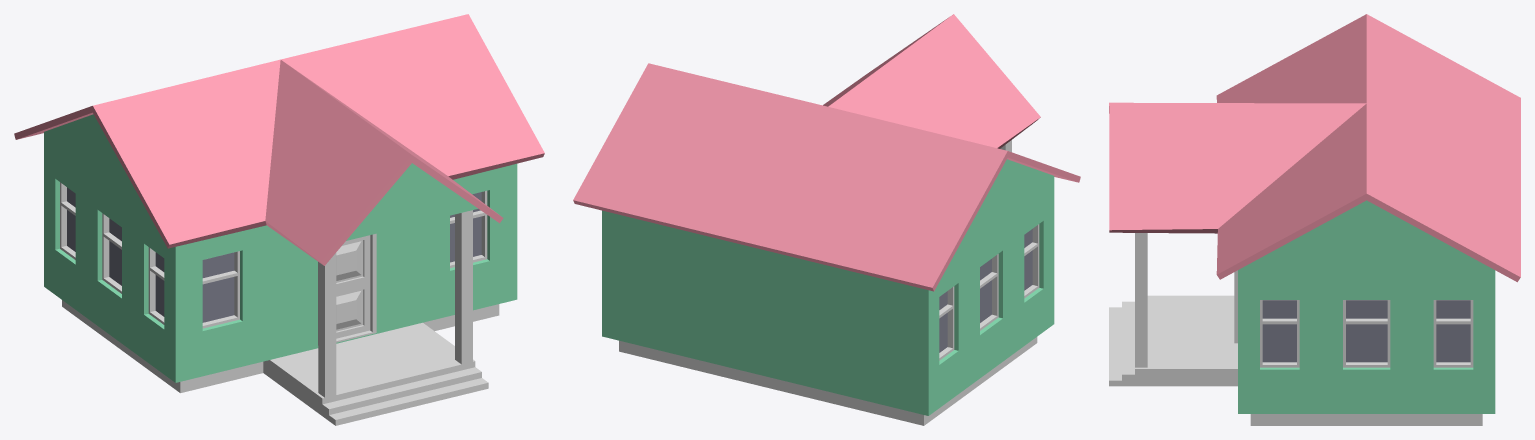
File: model-house.glb
The picture shows the model from 3 angles, left to right: view 1: azimuth 30°, elevation 25°; view 2: azimuth 150°, elevation 25°; view 3: azimuth 270°, elevation 25°; orthographic projection. The views are drawn at different scales.
Parts seen in each view (by area): view 1: Roof 2, Main_building, Deck, Pillars, Window_glass, Door, Window_frames; view 2: Roof 2, Main_building, Deck, Window_frames, Window_glass; view 3: Roof 2, Main_building, Deck, Window_glass, Window_frames, Pillars.
Boxes of the visible parts, x1,y1,x2,y2 form: Roof 2: (14, 14, 544, 265); Main_building: (44, 114, 517, 382); Deck: (62, 300, 499, 425); Pillars: (318, 210, 472, 397); Window_glass: (67, 187, 481, 322); Door: (318, 233, 376, 345); Window_frames: (60, 182, 487, 328); Roof 2: (573, 14, 1080, 291); Main_building: (602, 159, 1054, 415); Deck: (619, 337, 1037, 425); Window_frames: (939, 224, 1039, 360); Window_glass: (939, 229, 1032, 352); Roof 2: (1109, 14, 1520, 282); Main_building: (1238, 200, 1495, 413); Deck: (1109, 295, 1482, 425); Window_glass: (1262, 300, 1470, 362); Window_frames: (1260, 300, 1473, 367); Pillars: (1135, 233, 1147, 367).
Size of the model in its own units: 0.0162 by 0.0104 by 0.0157.
